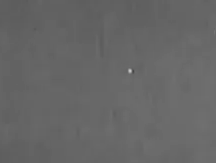Target: (128, 69, 131, 73)
